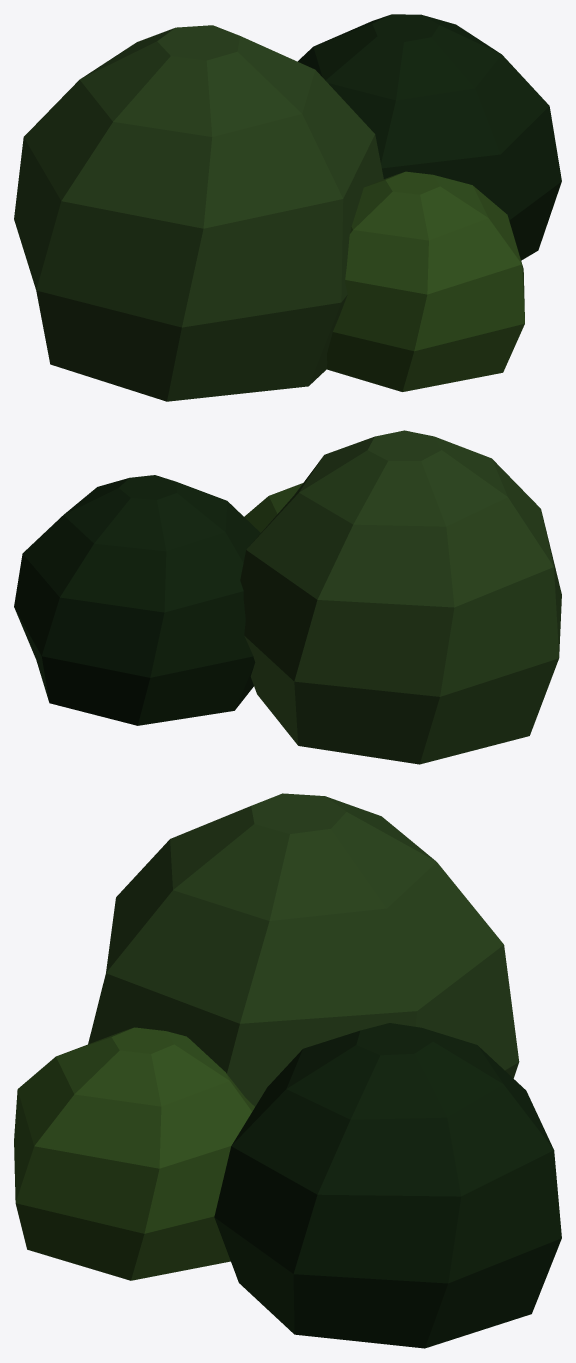
Rendered from bush.glb.
3 views of the same model, one above another, from view 1: azimuth 30°, elevation 25°; view 2: azimuth 150°, elevation 25°; view 3: azimuth 270°, elevation 25° (orthographic). The views are drawn at different scales.
Parts seen in each view (by area): view 1: bush_clump; view 2: bush_clump; view 3: bush_clump.
Boxes of the visible parts, x1=… form: bush_clump: x1=14, y1=14, x2=561, y2=401; bush_clump: x1=14, y1=430, x2=561, y2=764; bush_clump: x1=14, y1=793, x2=561, y2=1348.
Size of the model in its own units: 0.5632 by 0.285 by 0.4259.
